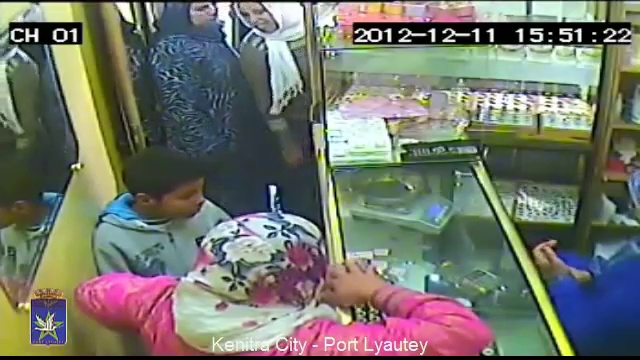face: (155, 175, 206, 221), (242, 2, 273, 38), (189, 0, 218, 30)
